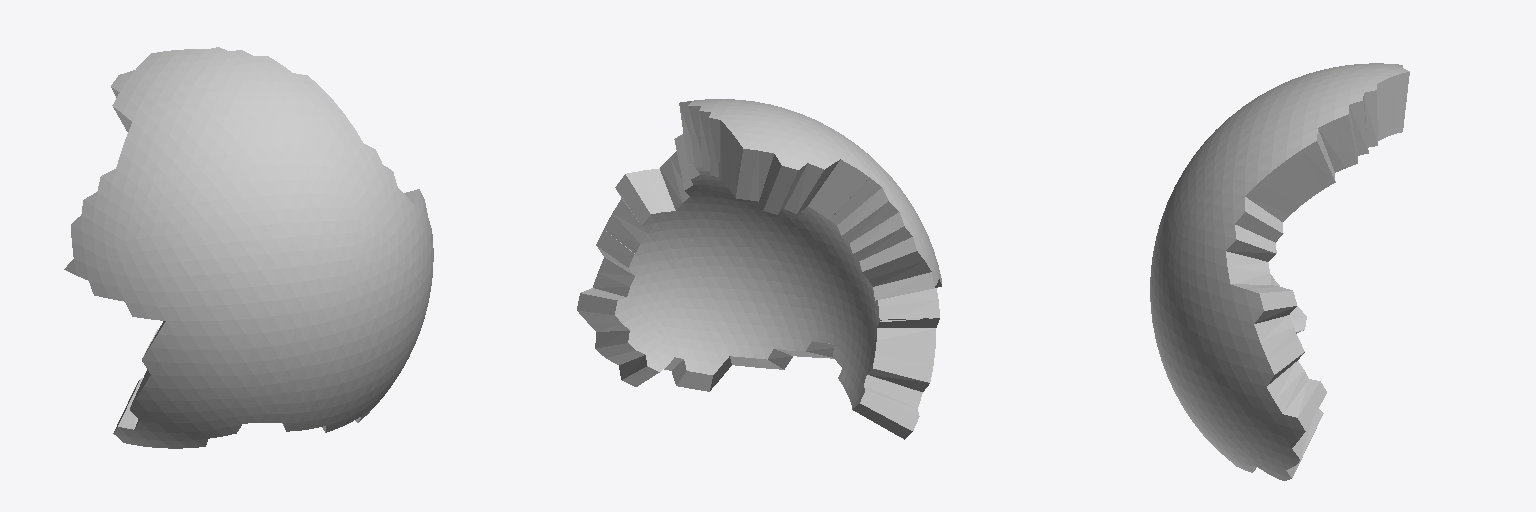
File: clouds_13.obj
The picture shows the model from 3 angles: view 1: azimuth 30°, elevation 25°; view 2: azimuth 150°, elevation 25°; view 3: azimuth 270°, elevation 25°; orthographic projection.
Parts seen in each view (by area): view 1: Icosphere.038; view 2: Icosphere.038; view 3: Icosphere.038.
Part boxes in pixels (x1,y1,x2,y2): Icosphere.038: (64,47,433,448); Icosphere.038: (577,99,941,439); Icosphere.038: (1150,63,1409,480).
Size of the model in its own units: 19.8 by 18.09 by 12.43.